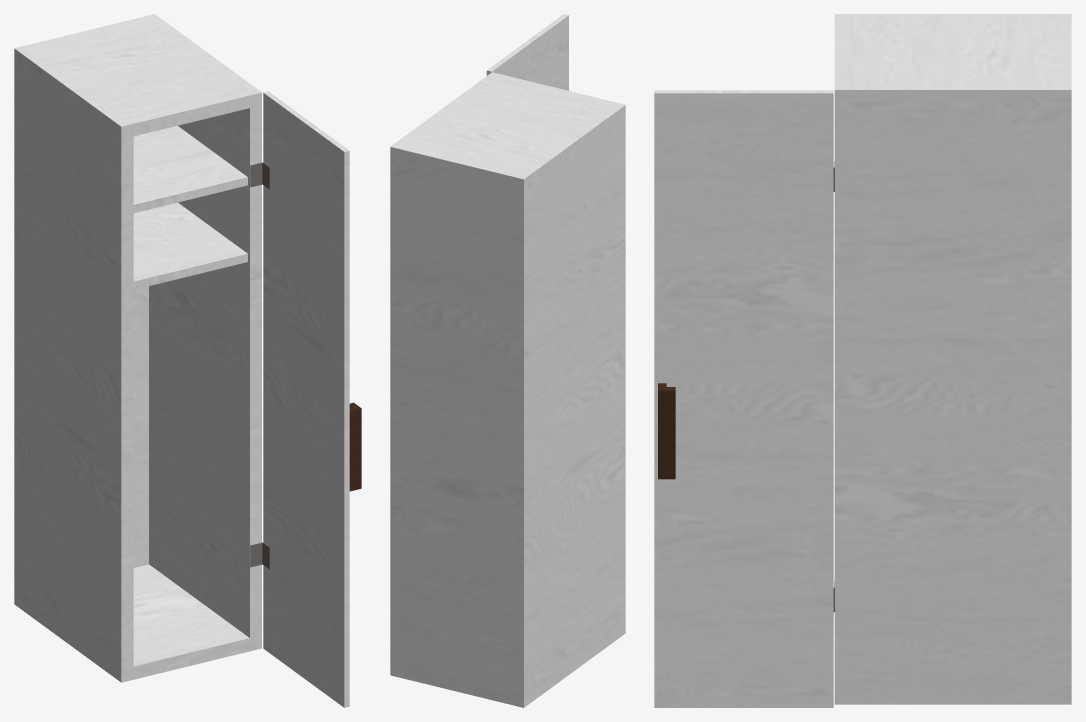
Rendered from Closet29.fbx.
3 views of the same model, side by side, from view 1: azimuth 30°, elevation 25°; view 2: azimuth 150°, elevation 25°; view 3: azimuth 270°, elevation 25° (orthographic). The views are drawn at different scales.
Visible parts, largest first — view 1: Closet29, Closet29Door; view 2: Closet29, Closet29Door; view 3: Closet29, Closet29Door.
Boxes of the visible parts, <box> form: Closet29: <box>14,14,262,682</box>; Closet29Door: <box>262,91,361,707</box>; Closet29: <box>390,72,625,707</box>; Closet29Door: <box>486,14,568,90</box>; Closet29: <box>833,14,1071,704</box>; Closet29Door: <box>654,90,834,707</box>.
Size of the model in its own units: 76.86 by 254 by 157.
